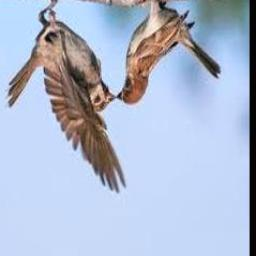Sparrow: (7, 0, 126, 192), (118, 0, 222, 106)
